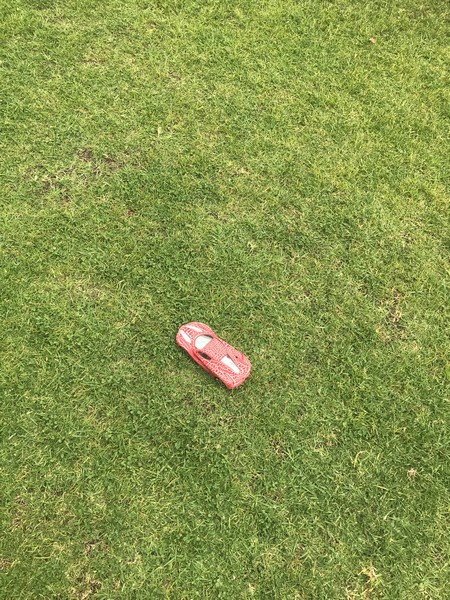RC: (175, 320, 253, 390)
